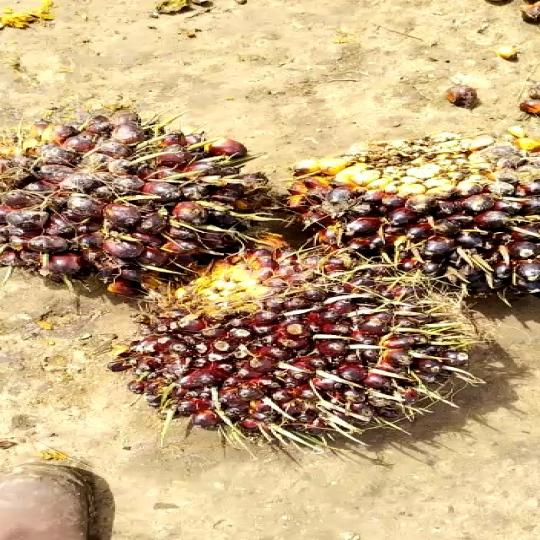kurang masak: (113, 257, 498, 454), (0, 104, 293, 290), (277, 107, 540, 312)
